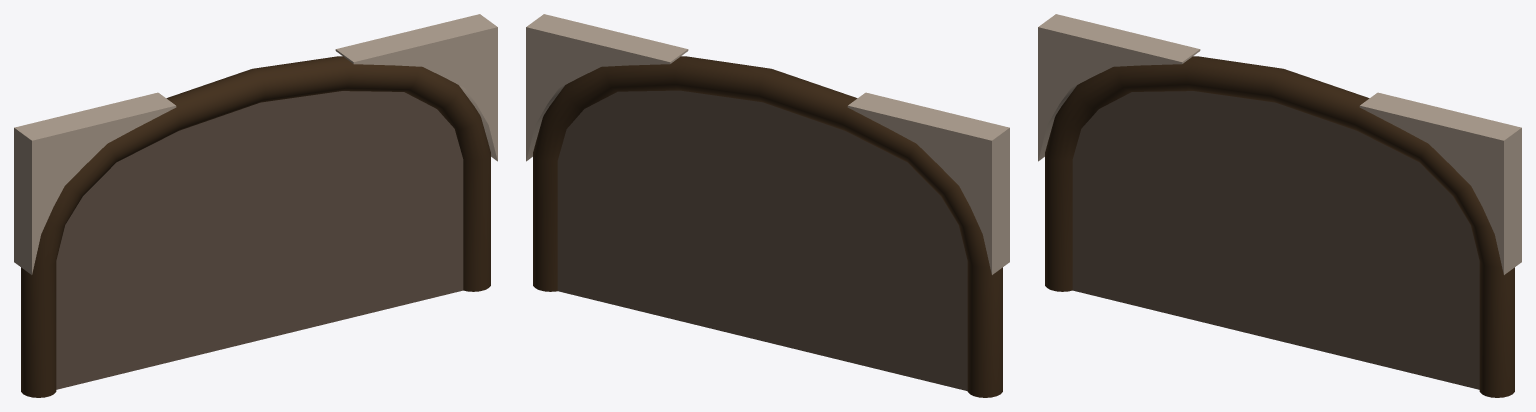
The model's file is Archway_Combined.fbx.
3 renders of one model, left to right at view 1: azimuth 30°, elevation 25°; view 2: azimuth 150°, elevation 25°; view 3: azimuth 330°, elevation 25°, orthographic.
Parts seen in each view (by area): view 1: Door_right, Door_left, Archway, Archwaytop; view 2: Door_left, Door_right, Archway, Archwaytop; view 3: Door_left, Door_right, Archway, Archwaytop.
Part boxes in pixels (box(x1,y1,x2,y2)): Door_right: box(260, 91, 463, 339); Door_left: box(56, 103, 259, 389); Archway: box(21, 56, 490, 397); Archwaytop: box(14, 14, 497, 274); Door_left: box(762, 102, 967, 390); Door_right: box(557, 90, 762, 340); Archway: box(533, 56, 1002, 397); Archwaytop: box(526, 14, 1009, 274); Door_left: box(1072, 91, 1275, 339); Door_right: box(1276, 103, 1479, 389); Archway: box(1045, 56, 1514, 397); Archwaytop: box(1038, 14, 1521, 274).
Bounding box in the file's own units: 750 × 411 × 50.
